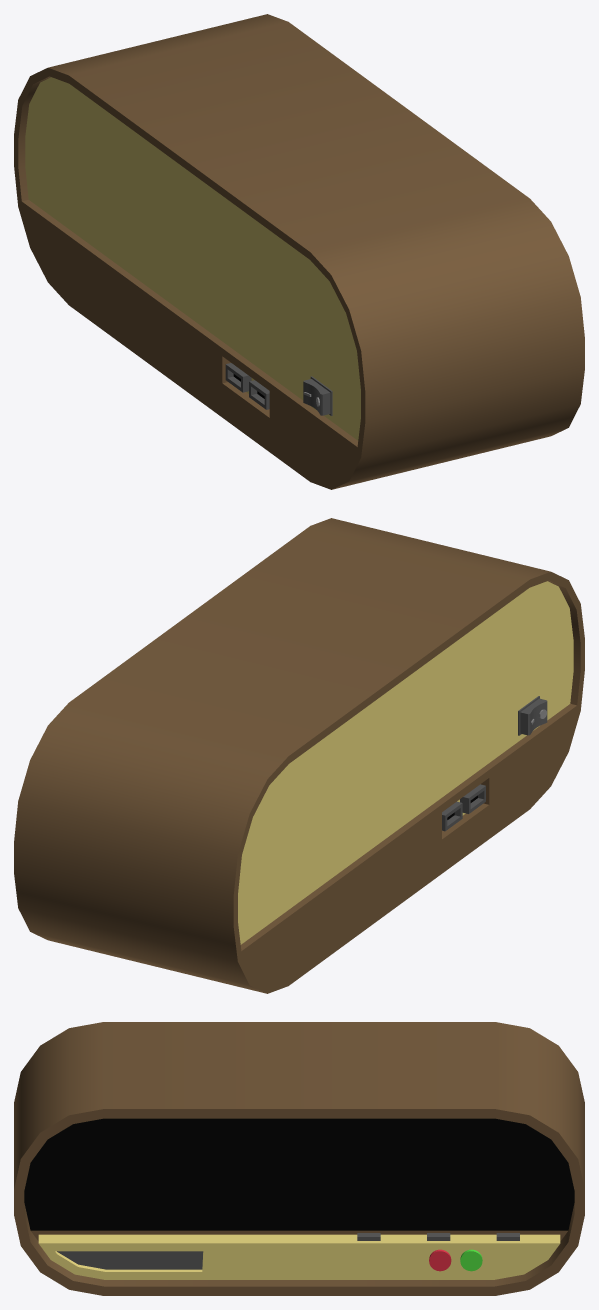
The model's file is Clock_digit.fbx.
3 renders of one model, top to bottom at view 1: azimuth 30°, elevation 25°; view 2: azimuth 150°, elevation 25°; view 3: azimuth 270°, elevation 25°, orthographic. The views are drawn at different scales.
Visible parts, largest first — view 1: Cube, Cube.002; view 2: Cube, Cube.002; view 3: Cube, Cylinder.001, Cylinder.
Boxes of the visible parts, box(x1,y1,x2,y2) form: Cube: box(14, 14, 584, 489); Cube.002: box(303, 379, 330, 415); Cube: box(14, 518, 584, 993); Cube.002: box(520, 698, 547, 735); Cube: box(14, 1022, 584, 1295); Cylinder.001: box(460, 1249, 482, 1271); Cylinder: box(429, 1249, 451, 1271).
Size of the model in its own units: 204 by 200 by 554.
